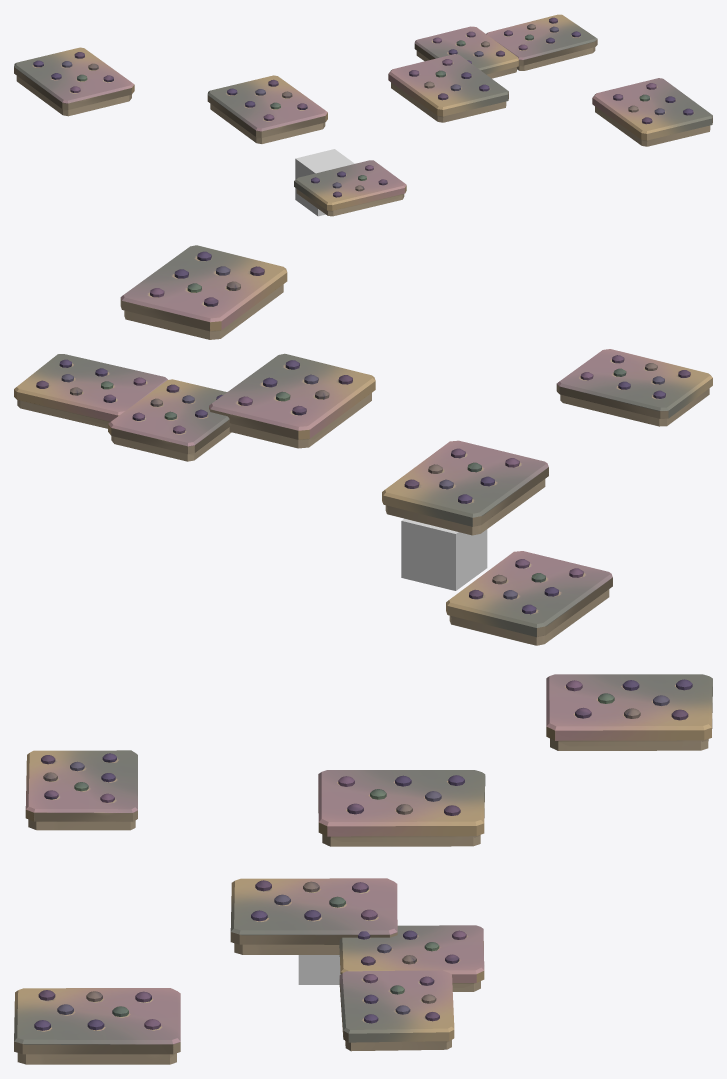
The model's file is battlescence-4-floor001.fbx.
The picture shows the model from 3 angles, top to bottom: view 1: azimuth 30°, elevation 25°; view 2: azimuth 150°, elevation 25°; view 3: azimuth 270°, elevation 25°; orthographic projection. The views are drawn at different scales.
Visible parts, largest first — view 1: floor.015, floor.016, floor.019, floor.018, floor.017, floor.020, floor.014, battlescence-4-floor001; view 2: floor.019, floor.018, floor.016, floor.015, floor.017, floor.020, floor.014, battlescence-4-floor001; view 3: floor.018, floor.016, floor.019, floor.015, floor.017, floor.020, floor.014, battlescence-4-floor001.
Boxes of the visible parts, box(x1,y1,x2,y2) form: floor.015: box(388, 54, 508, 122); floor.016: box(592, 78, 712, 146); floor.019: box(14, 47, 134, 116); floor.018: box(207, 75, 327, 143); floor.017: box(294, 160, 406, 216); floor.020: box(486, 14, 597, 70); floor.014: box(414, 26, 518, 78); battlescence-4-floor001: box(295, 149, 354, 216); floor.019: box(446, 551, 612, 645); floor.018: box(382, 440, 548, 535); floor.016: box(120, 245, 287, 339); floor.015: box(209, 353, 375, 448); floor.017: box(556, 349, 712, 426); floor.020: box(14, 354, 167, 428); floor.014: box(108, 379, 231, 461); battlescence-4-floor001: box(401, 518, 487, 590); floor.018: box(318, 770, 485, 846); floor.016: box(14, 988, 180, 1064); floor.019: box(546, 674, 712, 750); floor.015: box(230, 878, 397, 954); floor.017: box(25, 750, 137, 830); floor.020: box(339, 970, 454, 1051); floor.014: box(339, 925, 484, 991); battlescence-4-floor001: box(298, 955, 340, 984).
Size of the model in its own units: 1503 by 309 by 1227.
